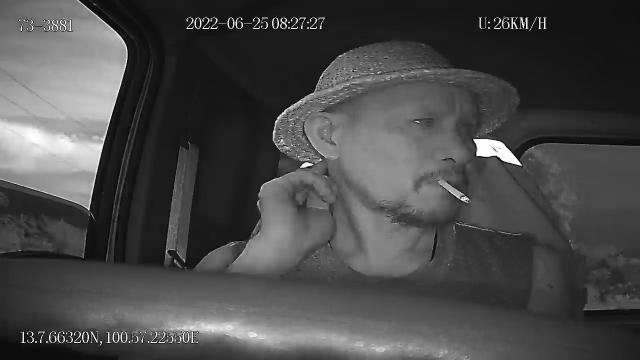Smoking: (433, 176, 471, 206)
